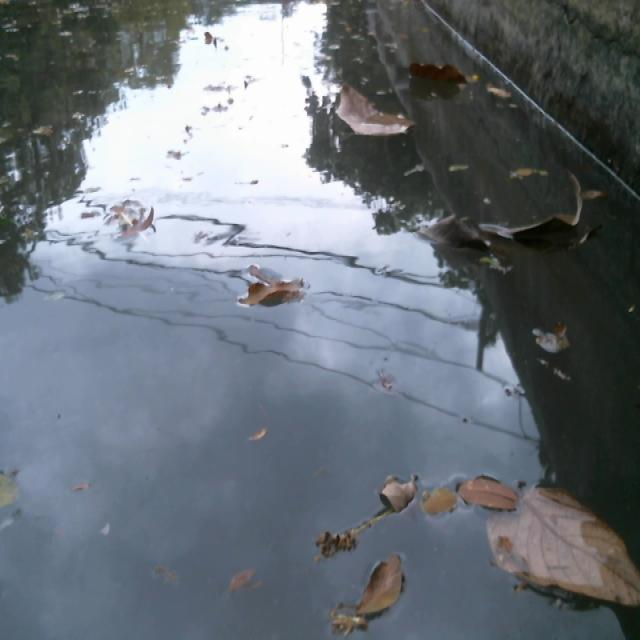Big-leaf: (495, 488, 640, 615), (496, 182, 588, 250), (331, 79, 412, 145), (414, 206, 493, 263), (403, 50, 475, 95)
Small-leaf: (238, 258, 307, 318), (305, 506, 389, 555), (360, 553, 406, 621), (461, 465, 523, 512), (524, 318, 572, 361), (106, 204, 160, 242), (378, 475, 421, 521), (486, 78, 529, 121), (424, 482, 460, 522), (374, 359, 403, 406), (0, 465, 25, 517), (333, 597, 367, 635), (225, 563, 261, 598), (150, 567, 186, 589), (199, 31, 230, 56), (250, 426, 266, 445)
